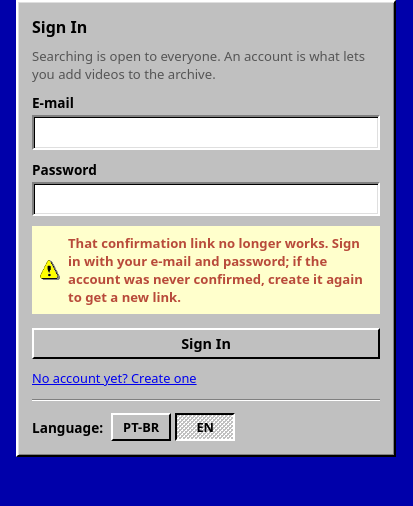
Test: AuthPanel › should say how to go in when the link from the e-mail no longer works
Check: the message shows "That confirmation link no longer works.", box left=68, top=234, right=363, bottom=306
Click the button "No account yet? Create one" at (114, 378), box left=32, top=369, right=197, bottom=387
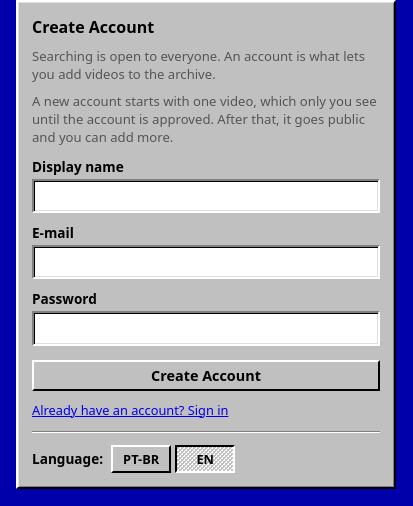
Check: the message is gone
